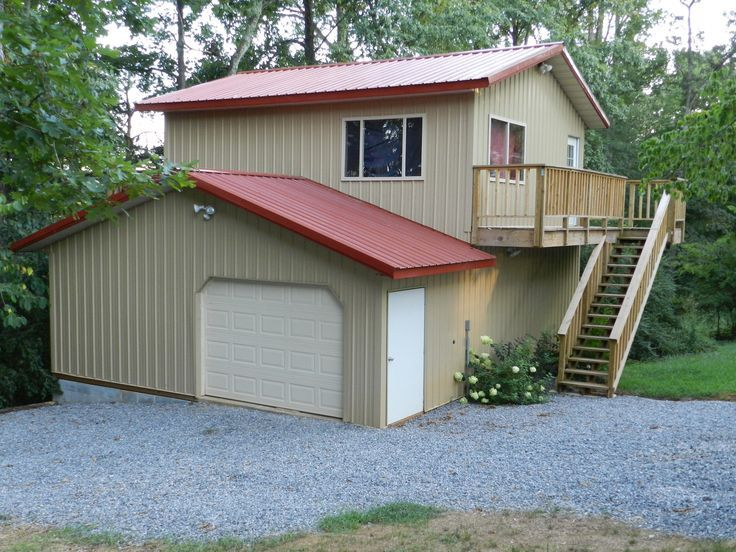Tin-shade House: (43, 43, 658, 419)
